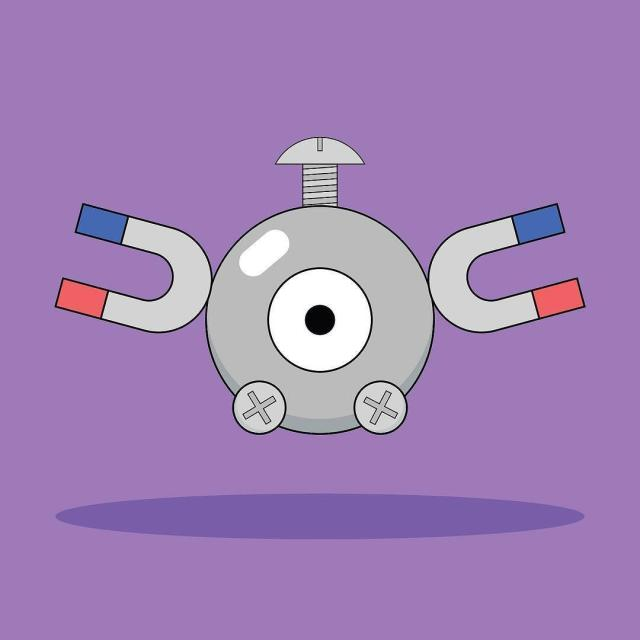Magnemite: (55, 131, 583, 438)
